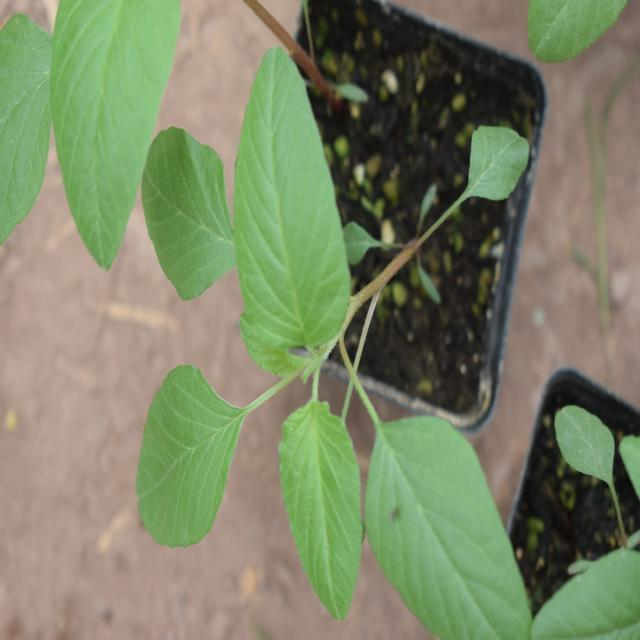pigweed: (104, 71, 509, 614)
